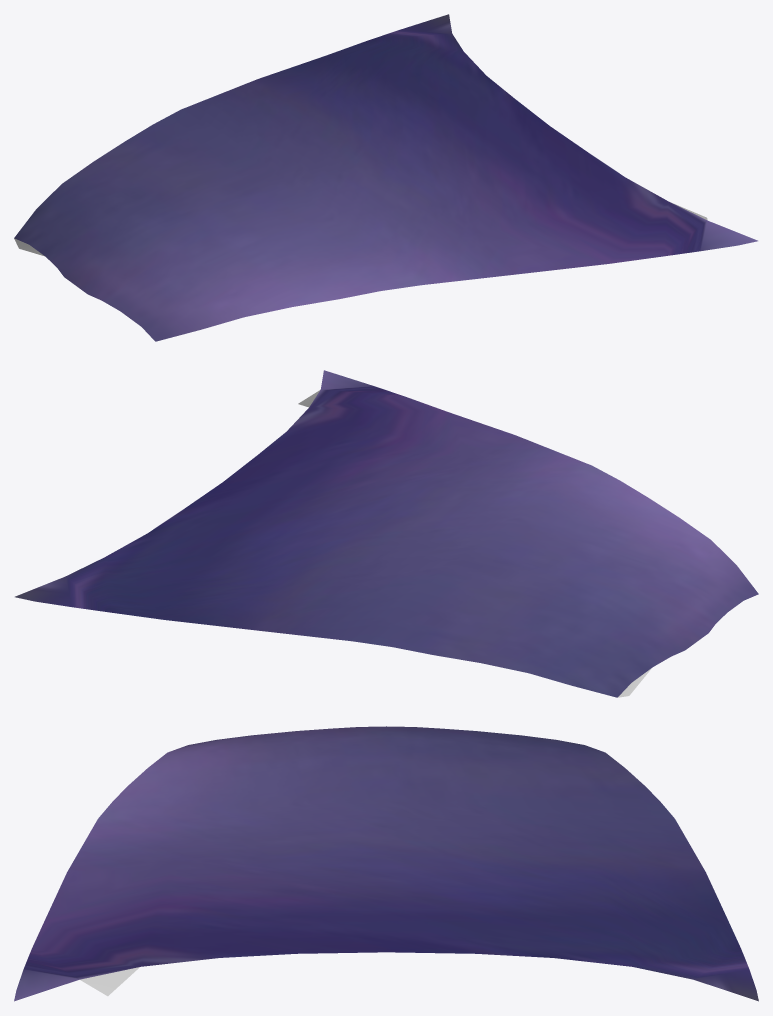
Rendered from cofre.obj.
The picture shows the model from 3 angles, top to bottom: view 1: azimuth 30°, elevation 25°; view 2: azimuth 150°, elevation 25°; view 3: azimuth 270°, elevation 25°; orthographic projection. The views are drawn at different scales.
Parts seen in each view (by area): view 1: cofrenuevo_Color_007.001; view 2: cofrenuevo_Color_007.001; view 3: cofrenuevo_Color_007.001, cofrenuevo_Gray8.001.
Boxes of the visible parts, left/top/right/bottom form: cofrenuevo_Color_007.001: left=14, top=14, right=757, bottom=341; cofrenuevo_Color_007.001: left=15, top=370, right=758, bottom=697; cofrenuevo_Color_007.001: left=14, top=726, right=758, bottom=1001; cofrenuevo_Gray8.001: left=80, top=967, right=139, bottom=996.
Bounding box in the file's own units: 1.51 × 0.1544 × 1.53.
